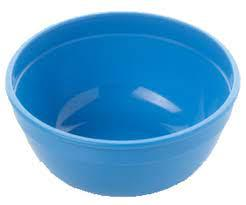Sponge Bowl: (7, 10, 241, 200)
